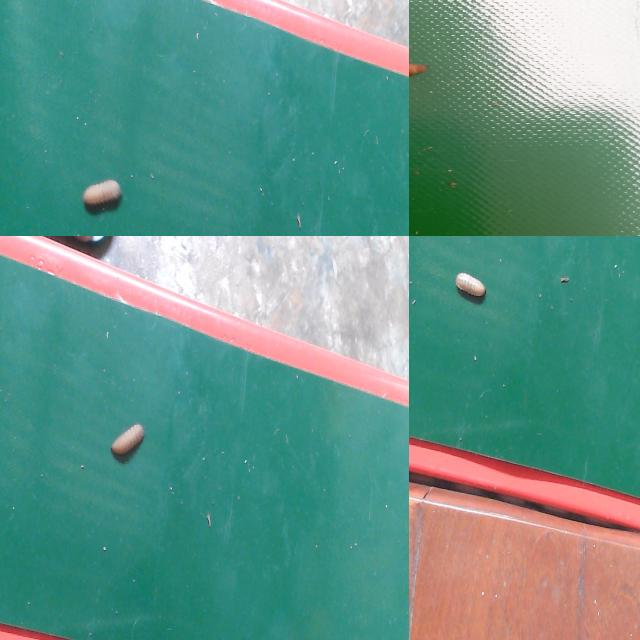Maggot: (79, 173, 128, 220), (109, 424, 146, 465), (456, 274, 485, 299)
